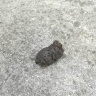Dog: (36, 40, 64, 66)
